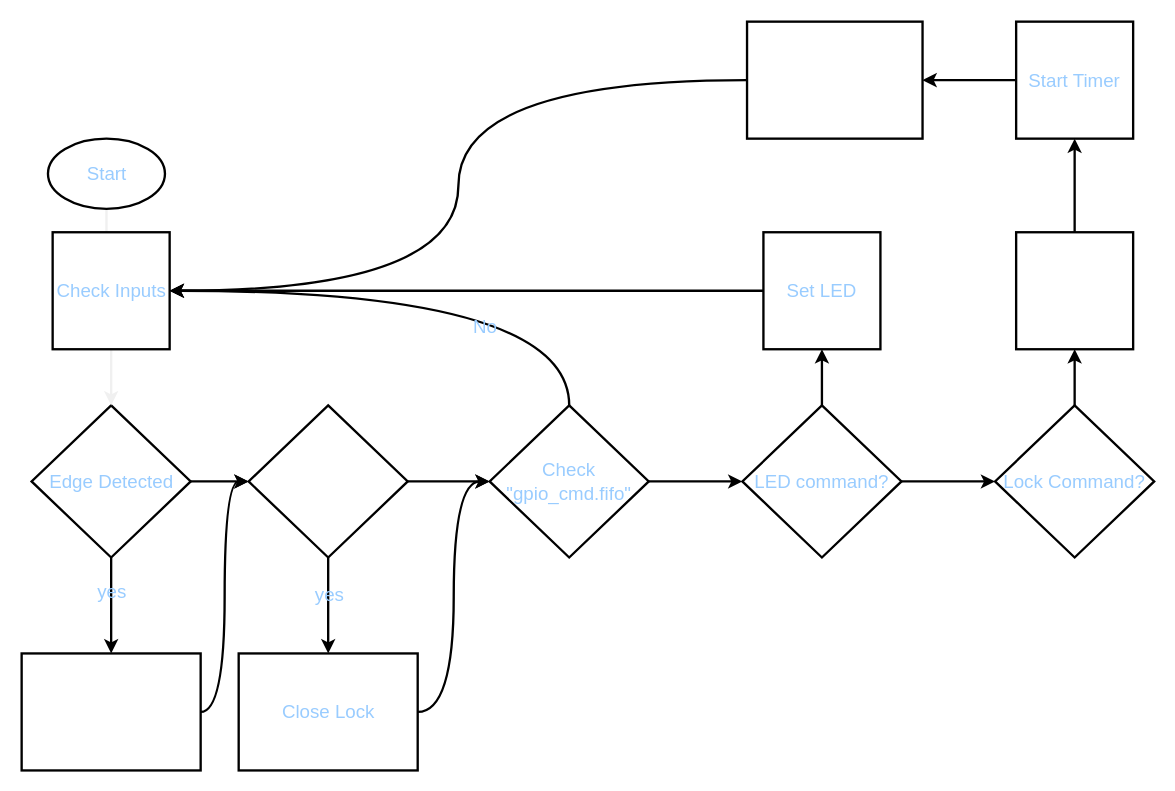
Some shapes in this 1175 by 791 pixel diagram are drawn without their labels. The box of each missing label's shape, as (x1, y1, x2, y2) in pixels:
Open lock: (1014, 230, 1134, 350)
Send Button: "gpio_output.fifo": (20, 652, 201, 771)
Send message: "gpio_ouput.fifo": (745, 20, 923, 139)
Timer Expired?: (247, 404, 408, 558)
